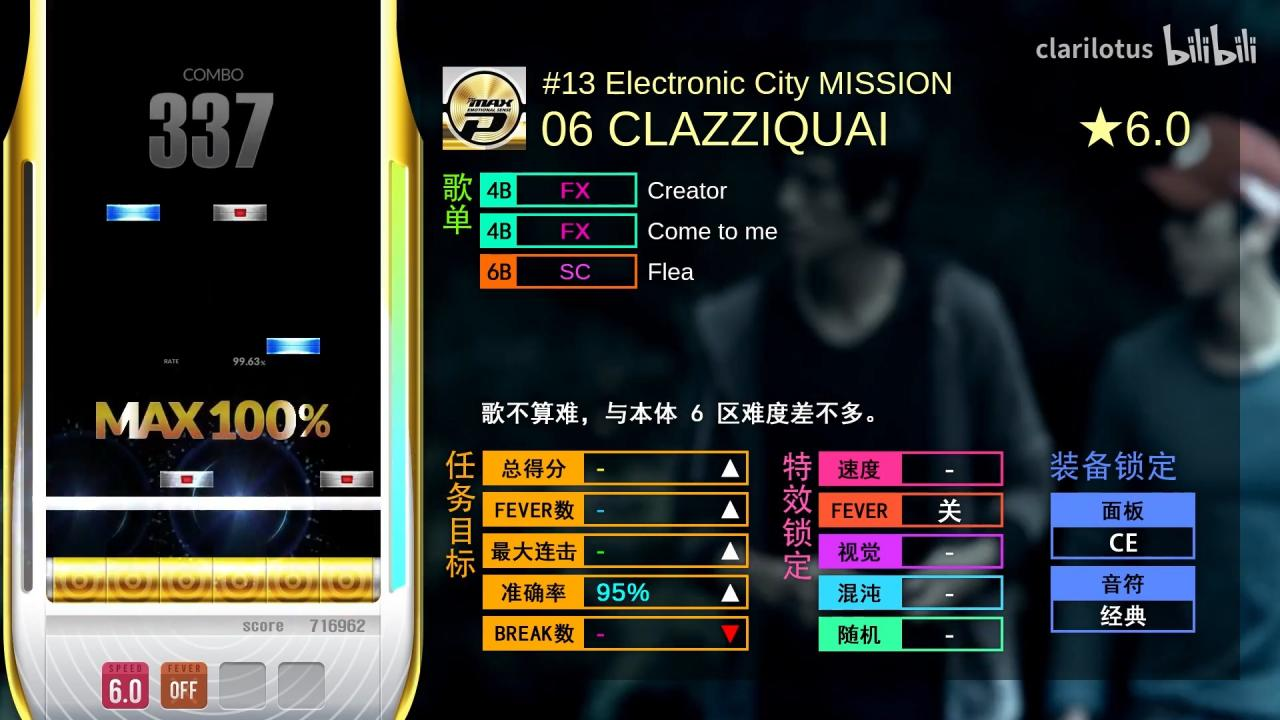note: (213, 204, 267, 222), (320, 470, 374, 488), (266, 337, 320, 354), (160, 471, 213, 488), (107, 205, 160, 220)
